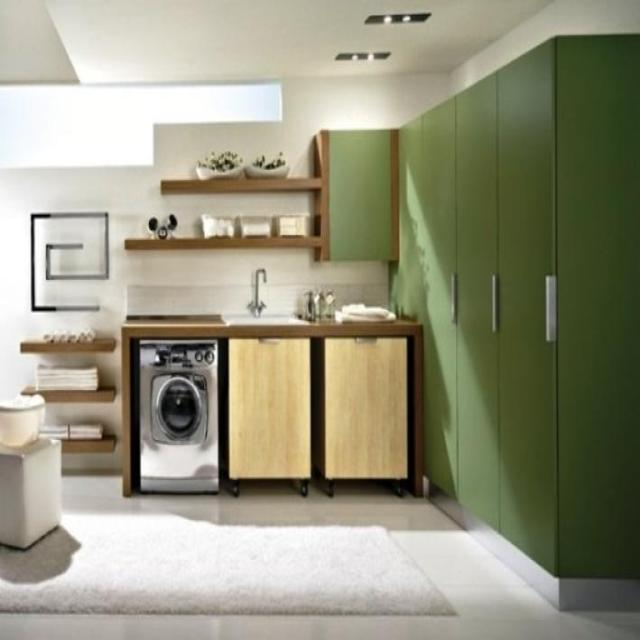E-waste: (123, 348, 232, 506)
Metal: (240, 257, 294, 321), (294, 272, 338, 326)
